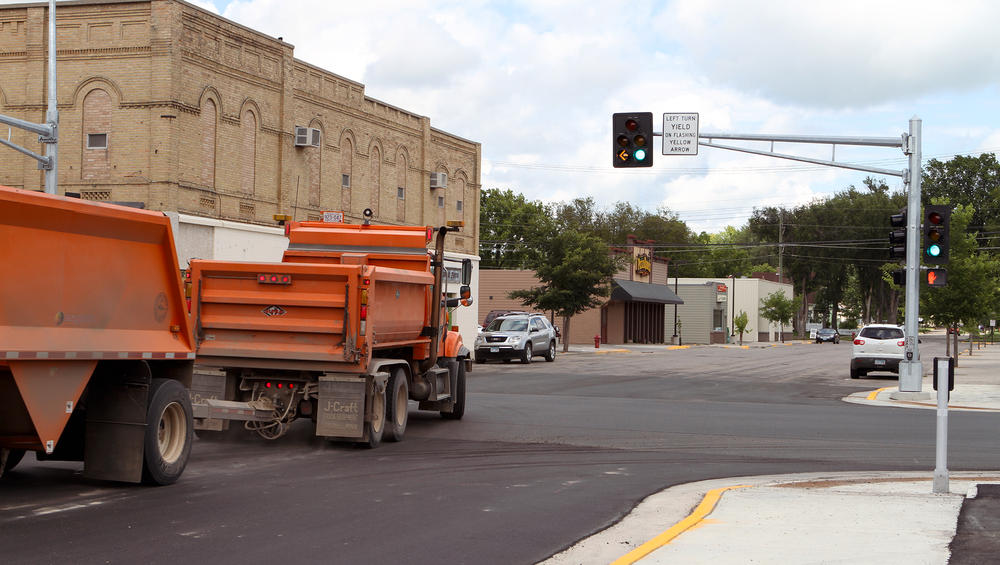traffic_light: (615, 117, 650, 163), (926, 210, 945, 259)
